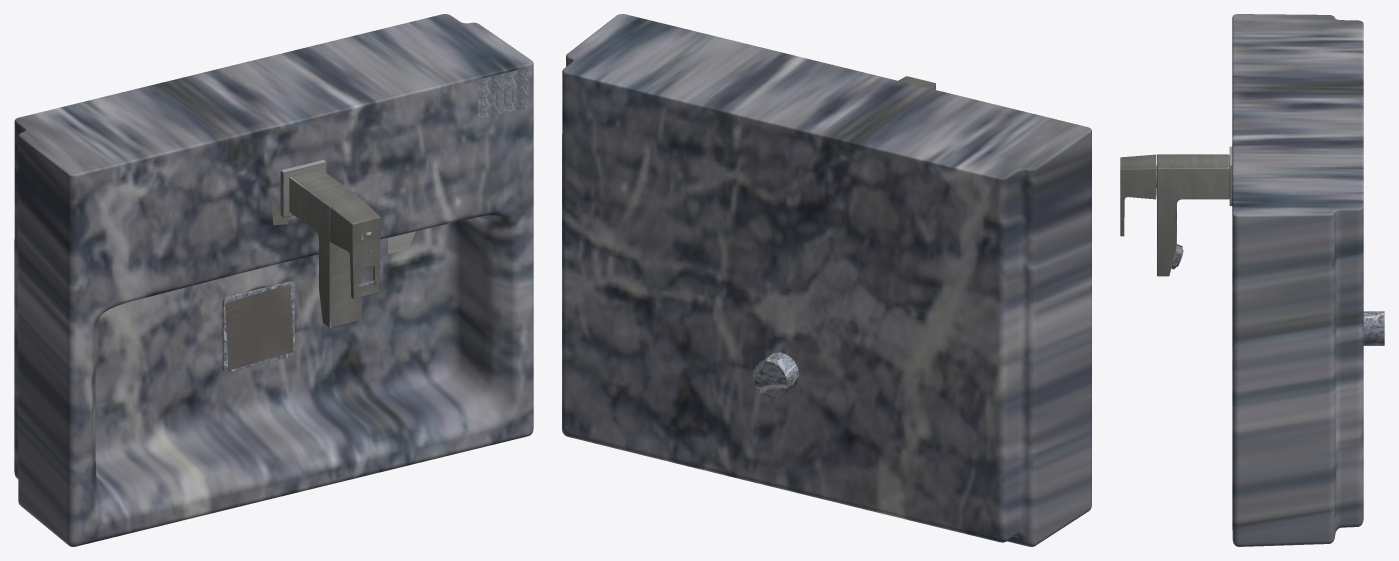
The model's file is lavamanos2.fbx.
3 views of the same model, side by side, from view 1: azimuth 30°, elevation 25°; view 2: azimuth 150°, elevation 25°; view 3: azimuth 270°, elevation 25° (orthographic). The views are drawn at different scales.
Parts seen in each view (by area): view 1: Default; view 2: Default; view 3: Default.
Part boxes in pixels (x1,y1,x2,y2): Default: (14,14,533,546); Default: (562,14,1091,546); Default: (1120,14,1384,546).
Bounding box in the file's own units: 45.5 × 35 × 25.17.
Materials: 2 (2 with a texture image).
